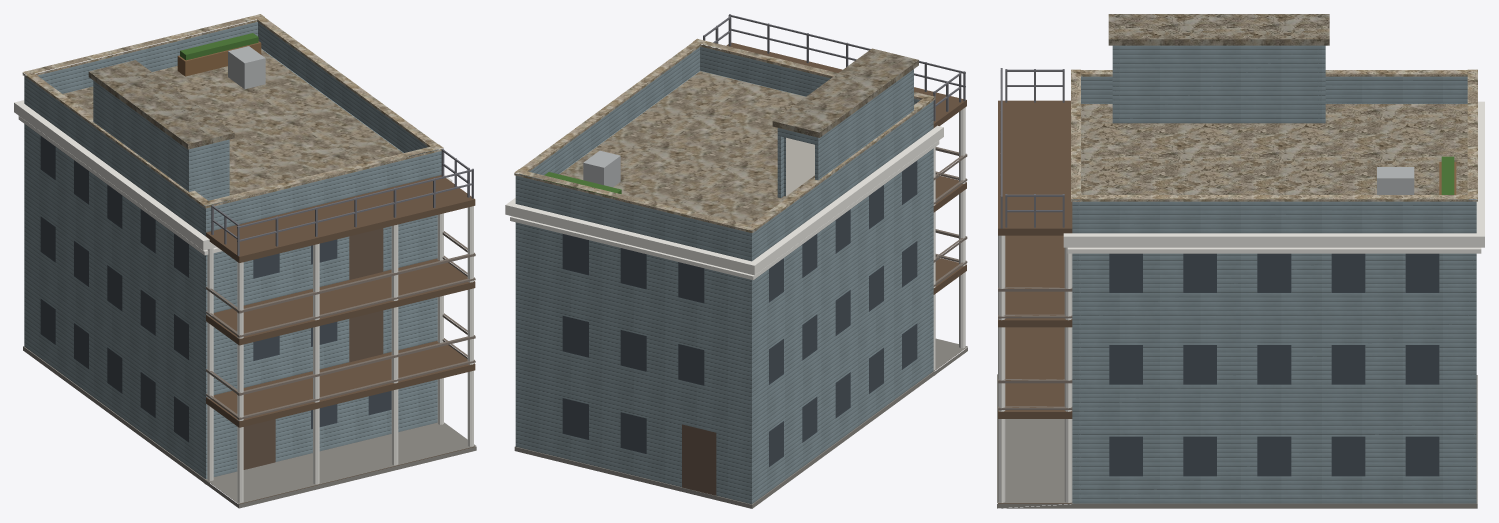
File: ns-triple-decker.zfix-v22.lod1.glb
3 views of the same model, side by side, from view 1: azimuth 30°, elevation 25°; view 2: azimuth 150°, elevation 25°; view 3: azimuth 270°, elevation 25° (orthographic). The views are drawn at different scales.
Parts seen in each view (by area): view 1: ns-triple-decker; view 2: ns-triple-decker; view 3: ns-triple-decker.
Boxes of the visible parts, x1=… form: ns-triple-decker: x1=14, y1=14, x2=476, y2=508; ns-triple-decker: x1=505, y1=14, x2=967, y2=508; ns-triple-decker: x1=997, y1=14, x2=1484, y2=508.
Size of the model in its own units: 9.5 by 11.97 by 14.48.
Materials: 3 (2 with a texture image).
